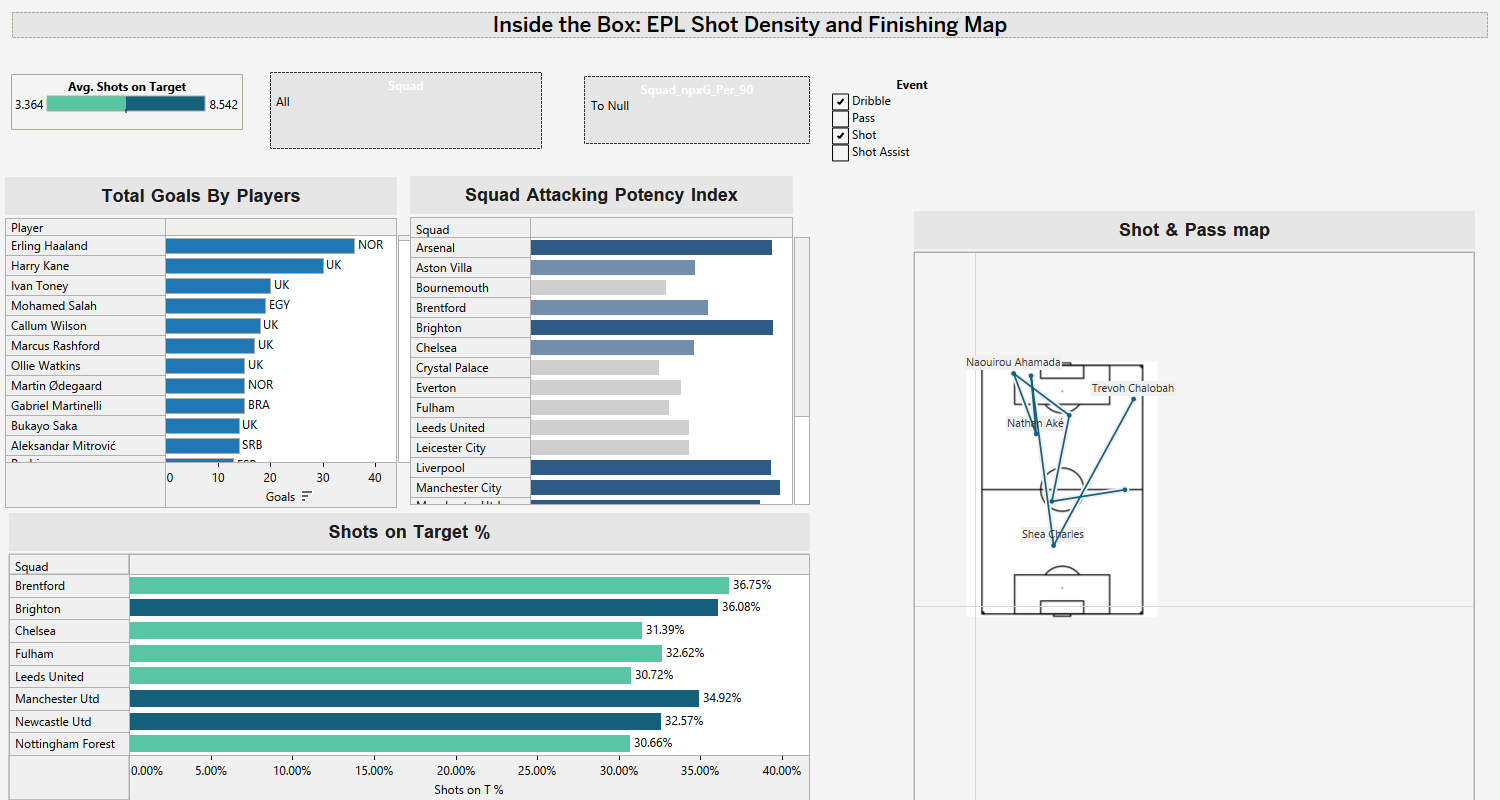

The page's visual inventory and layout, read from the dashboard file:
{"tool":"tableau","page":{"name":"Dashboard 1","canvas":[1500,800],"ordinal":0},"visuals":[{"type":"worksheet","box":[0,0,1500,800]},{"type":"worksheet","param":"vert","box":[8,8,1484,784]},{"type":"worksheet","box":[8,8,1484,34]},{"type":"worksheet","title":"Squad Attacking Potency Index","mark":"Automatic","rows":["Squad"],"cols":["Calculation_683139769876021249"],"param":"[federated.0aetqds03xq4b21enle850bdzp0g].[none:Squad:nk]","box":[270,72,272,77]},{"type":"worksheet","title":"Shots on Target %","mark":"Automatic","rows":["Squad"],"cols":["Calculation_683139769868140544"],"param":"[federated.0aetqds03xq4b21enle850bdzp0g].[avg:Shots on Target:qk]","box":[11,74,232,75]},{"type":"worksheet","title":"Shot & Pass map ","mark":"Line","rows":["X"],"cols":["Y"],"param":"[federated.0aetqds03xq4b21enle850bdzp0g].[none:Event:nk]","box":[832,75,160,113]},{"type":"worksheet","title":"Squad Attacking Potency Index","mark":"Automatic","rows":["Squad"],"cols":["Calculation_683139769876021249"],"param":"[federated.0aetqds03xq4b21enle850bdzp0g].[usr:Calculation_683139769876021249:qk]","box":[584,76,226,68]},{"type":"worksheet","title":"Squad Attacking Potency Index","mark":"Automatic","rows":["Squad"],"cols":["Calculation_683139769876021249"],"box":[410,176,400,329]},{"type":"worksheet","title":"Total Goals By Players","mark":"Automatic","rows":["Player"],"cols":["Goals"],"box":[5,177,409,331]},{"type":"worksheet","title":"Shots on Target %","mark":"Automatic","rows":["Squad"],"cols":["Calculation_683139769868140544"],"box":[9,513,801,288]}]}

Visuals, with their boxes in screenshot pixels (x1, y1, x2, y2), scaled from the page's 1500x800 canvas onto the 1500x800 screenshot:
worksheet: l=0, t=0, r=1499, b=799
worksheet: l=8, t=8, r=1492, b=792
worksheet: l=8, t=8, r=1492, b=42
"Squad Attacking Potency Index" worksheet: l=270, t=72, r=542, b=149
"Shots on Target %" worksheet: l=11, t=74, r=243, b=149
"Shot & Pass map " worksheet (Line marks): l=832, t=75, r=992, b=188
"Squad Attacking Potency Index" worksheet: l=584, t=76, r=810, b=144
"Squad Attacking Potency Index" worksheet: l=410, t=176, r=810, b=505
"Total Goals By Players" worksheet: l=5, t=177, r=414, b=508
"Shots on Target %" worksheet: l=9, t=513, r=810, b=799
